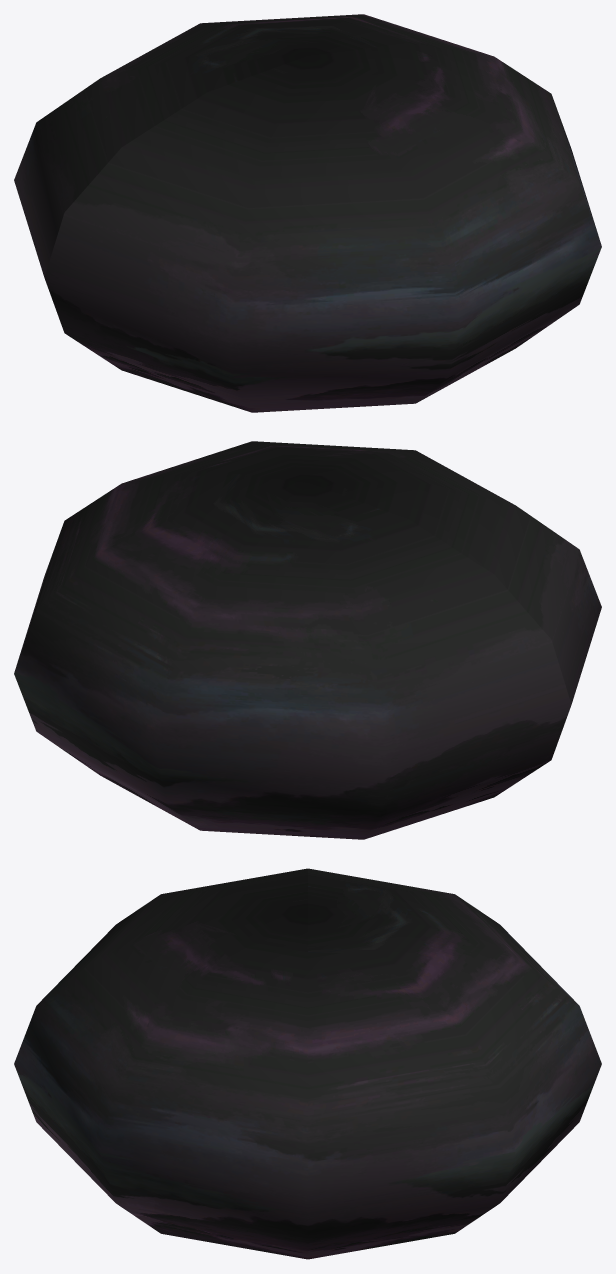
File: stage.glb
The picture shows the model from 3 angles, top to bottom: view 1: azimuth 30°, elevation 25°; view 2: azimuth 150°, elevation 25°; view 3: azimuth 270°, elevation 25°; orthographic projection. The views are drawn at different scales.
Visible parts, largest first — view 1: KORE_export_Tournament Of Power (Damaged)_mesh; view 2: KORE_export_Tournament Of Power (Damaged)_mesh; view 3: KORE_export_Tournament Of Power (Damaged)_mesh.
Part boxes in pixels (<box>): KORE_export_Tournament Of Power (Damaged)_mesh: <box>14,14,601,412</box>; KORE_export_Tournament Of Power (Damaged)_mesh: <box>14,441,601,839</box>; KORE_export_Tournament Of Power (Damaged)_mesh: <box>14,868,601,1259</box>.
Size of the model in its own units: 33.8 by 19.31 by 33.8.
10 materials, 10 textured.
